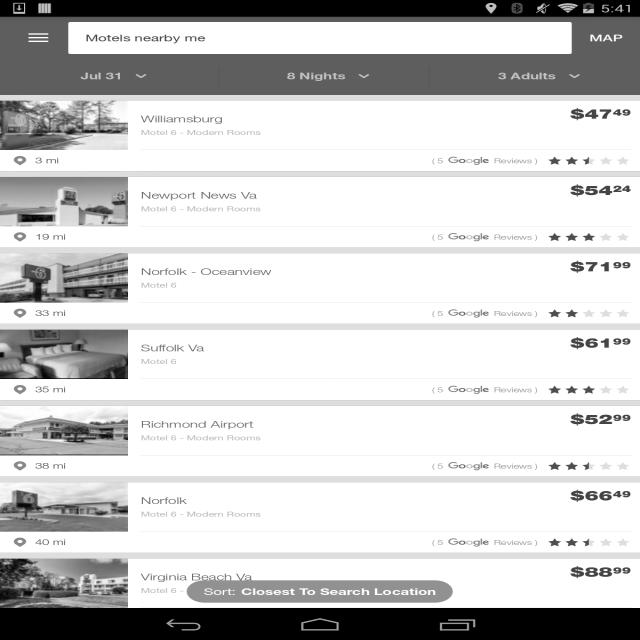ImageButton: (9, 17, 68, 59)
ImageView: (0, 253, 128, 303), (0, 482, 128, 532), (0, 101, 128, 150), (0, 177, 128, 226), (0, 330, 128, 379), (0, 406, 128, 455), (0, 559, 128, 608), (448, 232, 490, 242), (448, 157, 490, 166), (448, 309, 490, 318), (448, 462, 490, 471), (448, 538, 490, 547), (448, 386, 490, 394)
RatingBar: (546, 155, 632, 166), (546, 308, 632, 319), (546, 384, 632, 395), (546, 537, 632, 548), (546, 232, 632, 242), (546, 461, 632, 471)
TextView: (68, 22, 572, 54), (141, 113, 557, 126), (141, 189, 557, 202), (141, 342, 557, 355), (141, 418, 557, 431), (141, 571, 557, 584), (141, 266, 557, 278), (141, 495, 557, 507), (141, 128, 631, 137), (141, 357, 631, 366), (141, 586, 631, 595), (141, 205, 631, 213), (141, 281, 631, 289), (141, 434, 631, 442), (141, 510, 631, 518), (278, 65, 378, 87), (72, 64, 155, 90), (490, 65, 588, 87), (240, 586, 436, 597), (580, 22, 632, 54), (4, 226, 75, 248), (4, 455, 75, 477), (4, 303, 75, 324), (4, 379, 75, 400), (4, 532, 75, 553), (4, 150, 68, 171), (570, 258, 632, 275), (570, 487, 632, 504), (570, 106, 632, 122), (570, 182, 632, 198), (570, 335, 632, 351), (570, 411, 632, 427), (570, 564, 632, 580), (494, 309, 537, 318), (494, 538, 537, 547), (204, 586, 236, 597), (494, 157, 537, 165), (494, 233, 537, 241), (494, 386, 537, 394), (494, 462, 537, 470), (432, 309, 444, 318), (432, 538, 444, 547), (432, 157, 444, 165), (432, 233, 444, 241), (432, 386, 444, 394), (432, 462, 444, 470)
